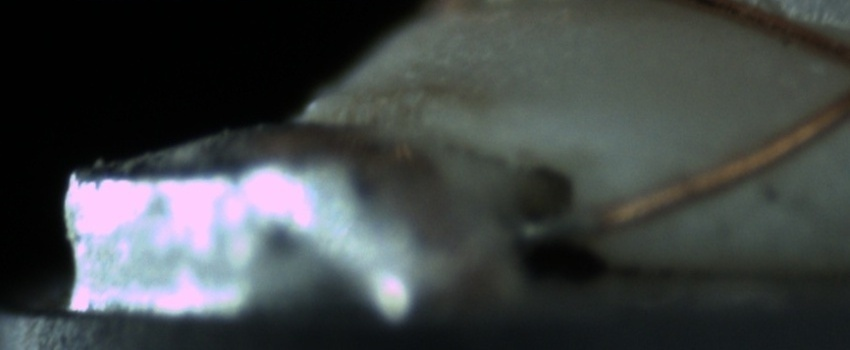TS: (521, 210, 601, 240)
